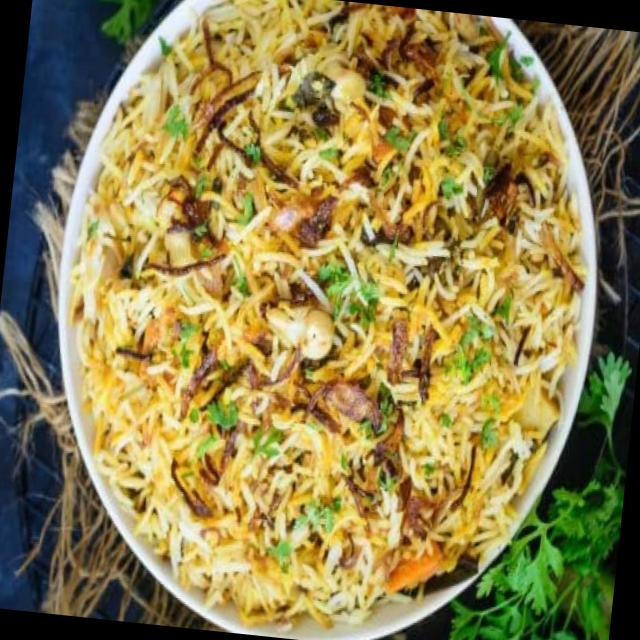Biryani: (30, 0, 615, 640)
